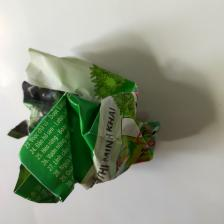Paper: (18, 44, 144, 200)
